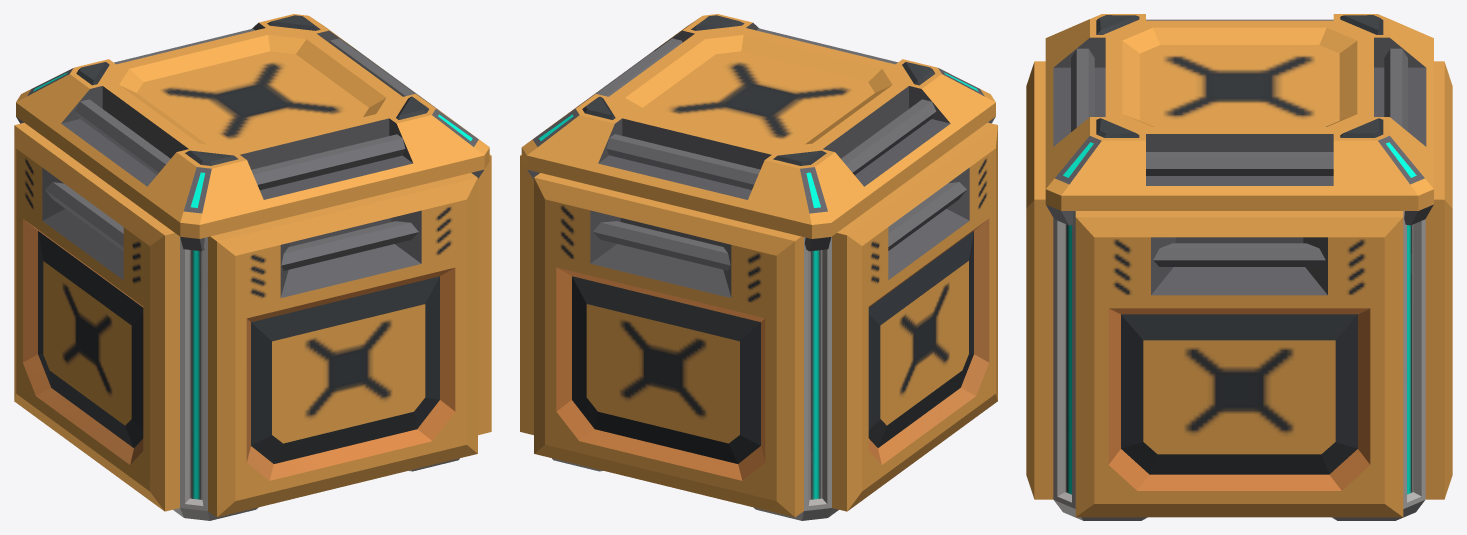
Rendered from SM_Prop_Crate_02.fbx.
3 renders of one model, left to right at view 1: azimuth 30°, elevation 25°; view 2: azimuth 150°, elevation 25°; view 3: azimuth 270°, elevation 25°, orthographic. The views are drawn at different scales.
Visible parts, largest first — view 1: SM_Prop_Crate_02; view 2: SM_Prop_Crate_02; view 3: SM_Prop_Crate_02.
Part boxes in pixels (x1,y1,x2,y2): SM_Prop_Crate_02: (14,14,491,520); SM_Prop_Crate_02: (520,14,997,520); SM_Prop_Crate_02: (1026,14,1452,520).
Bounding box in the file's own units: 98.22 × 94.62 × 98.22.
